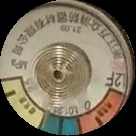green: (41, 113, 83, 136)
red: (78, 88, 127, 136)
yellow: (2, 79, 48, 128)
